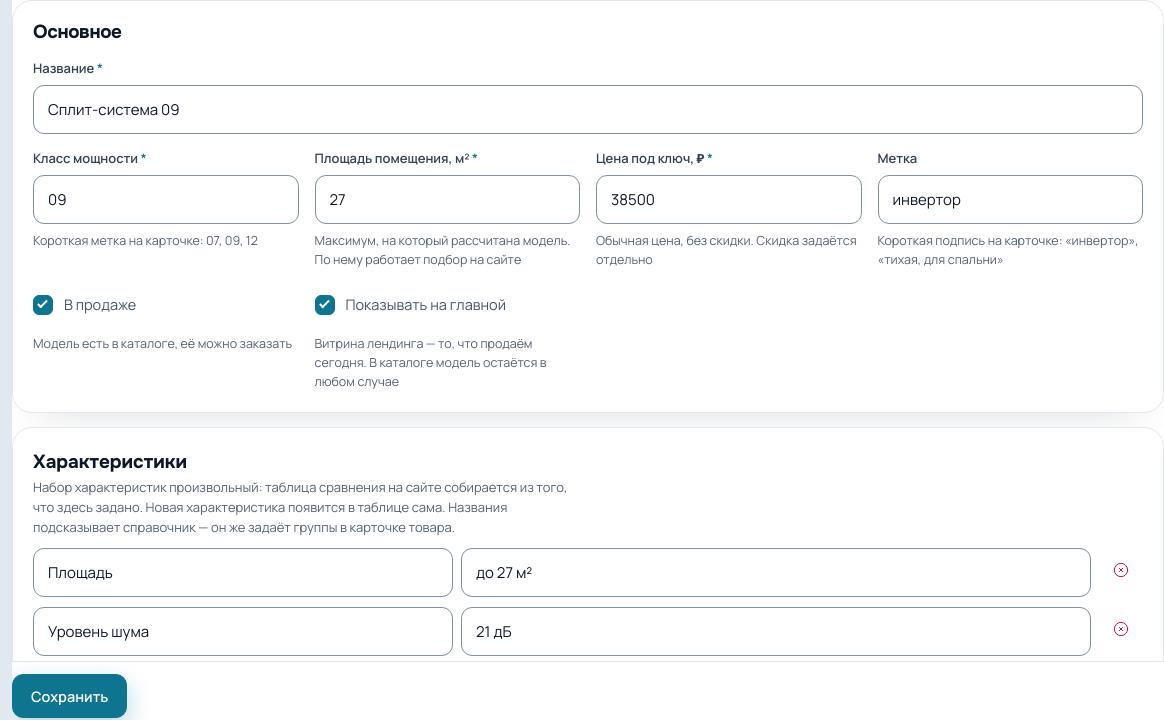
Scenario: Форма модели каталога › ошибка сервера показывается у названного им поля
Step 1. Click the button "Сохранить" → (70, 696), box [12,674,127,718]
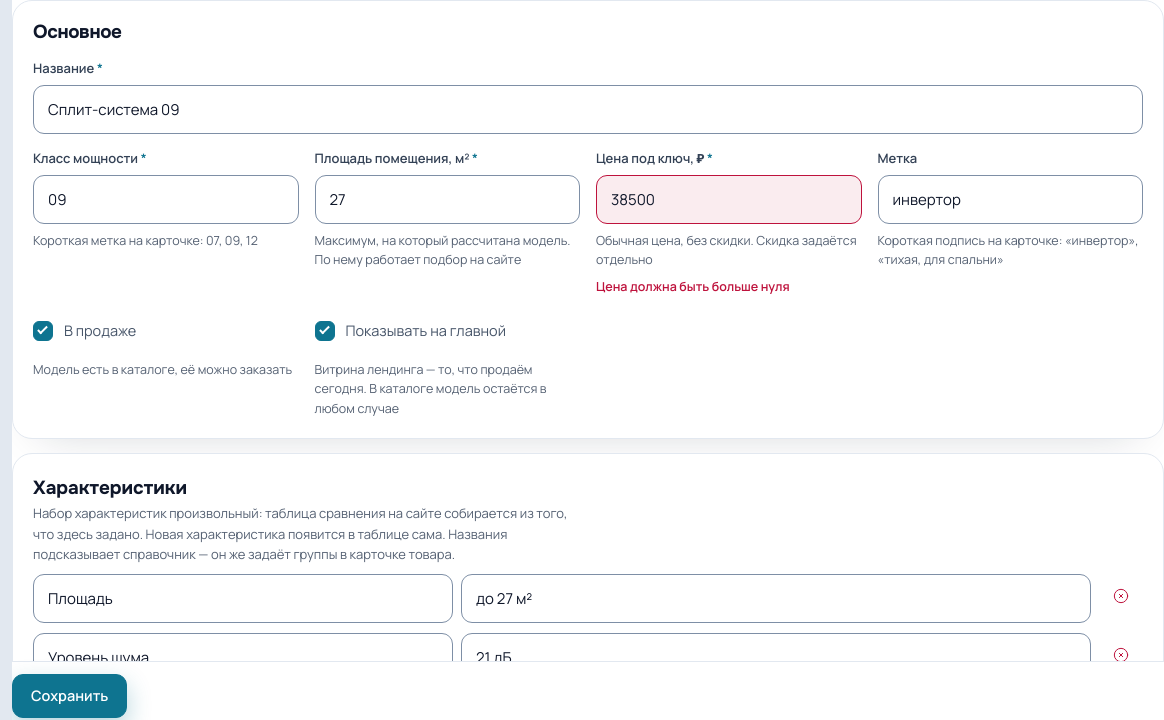
expect the text "Цена должна быть больше нуля" is shown: met, box [596,278,790,295]
